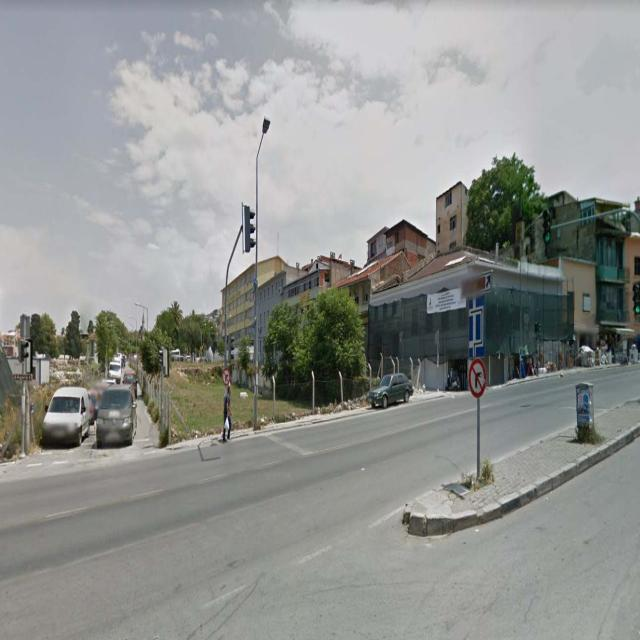sagadonulmez: (469, 358, 486, 398), (223, 368, 229, 385)
